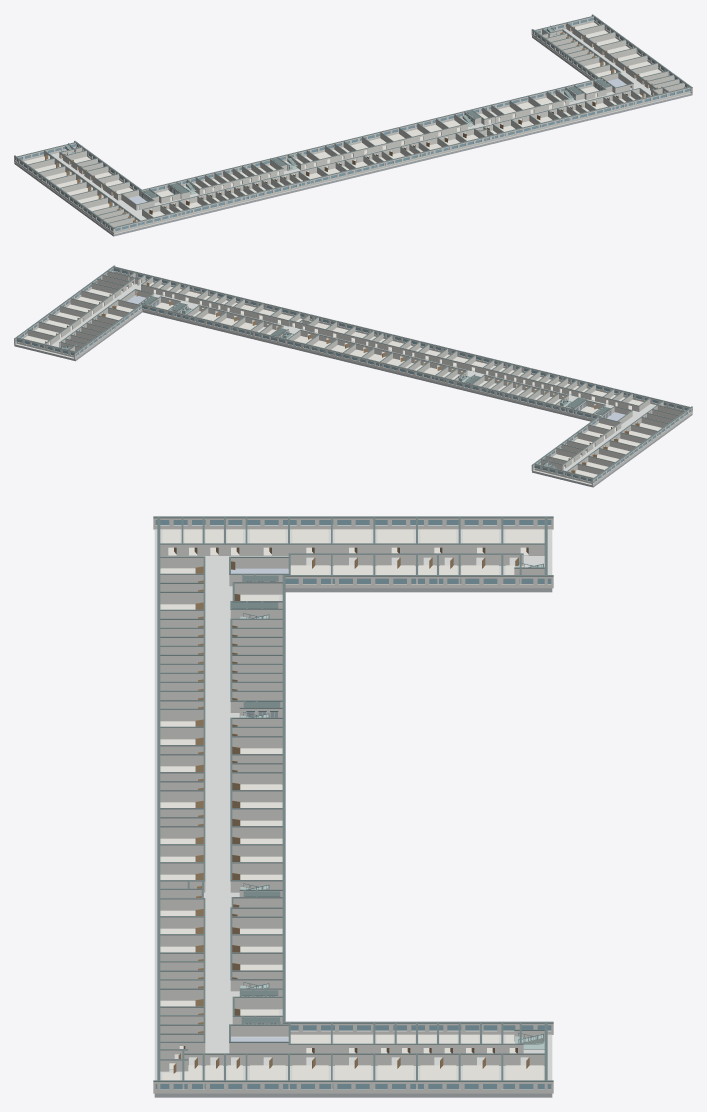
The picture shows the model from 3 angles, top to bottom: view 1: azimuth 30°, elevation 25°; view 2: azimuth 150°, elevation 25°; view 3: azimuth 270°, elevation 25°; orthographic projection. The views are drawn at different scales.
Visible parts, largest first — view 1: wall, cap, room, floor, glass, slab, door, stair; view 2: wall, cap, room, glass, floor, slab, door; view 3: wall, cap, floor, room, glass, door, slab.
Boxes of the visible parts, x1,y1,x2,y2 form: wall: (14,15,692,234); cap: (14,14,692,228); room: (24,22,661,217); floor: (14,22,690,234); glass: (15,17,690,231); slab: (14,36,692,236); door: (45,27,668,222); stair: (65,27,574,194); wall: (14,266,692,485); cap: (14,265,692,479); room: (24,281,661,477); glass: (15,268,690,482); floor: (16,280,692,485); slab: (14,310,692,487); door: (45,275,657,473); wall: (153,518,553,1093); cap: (153,516,553,1081); floor: (154,529,552,1093); room: (161,529,543,1080); glass: (155,520,551,1089); door: (173,547,529,1073); slab: (154,588,552,1097).
Size of the model in its own units: 1885 by 30.49 by 564.
